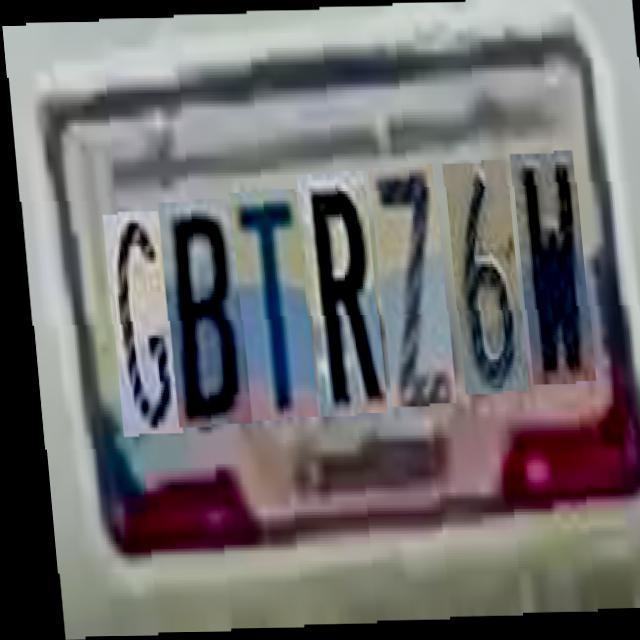6: (438, 158, 518, 390)
B: (151, 185, 240, 411)
G: (96, 194, 170, 417)
R: (292, 164, 376, 406)
T: (224, 178, 306, 406)
W: (506, 152, 586, 384)
Z: (364, 160, 445, 400)
